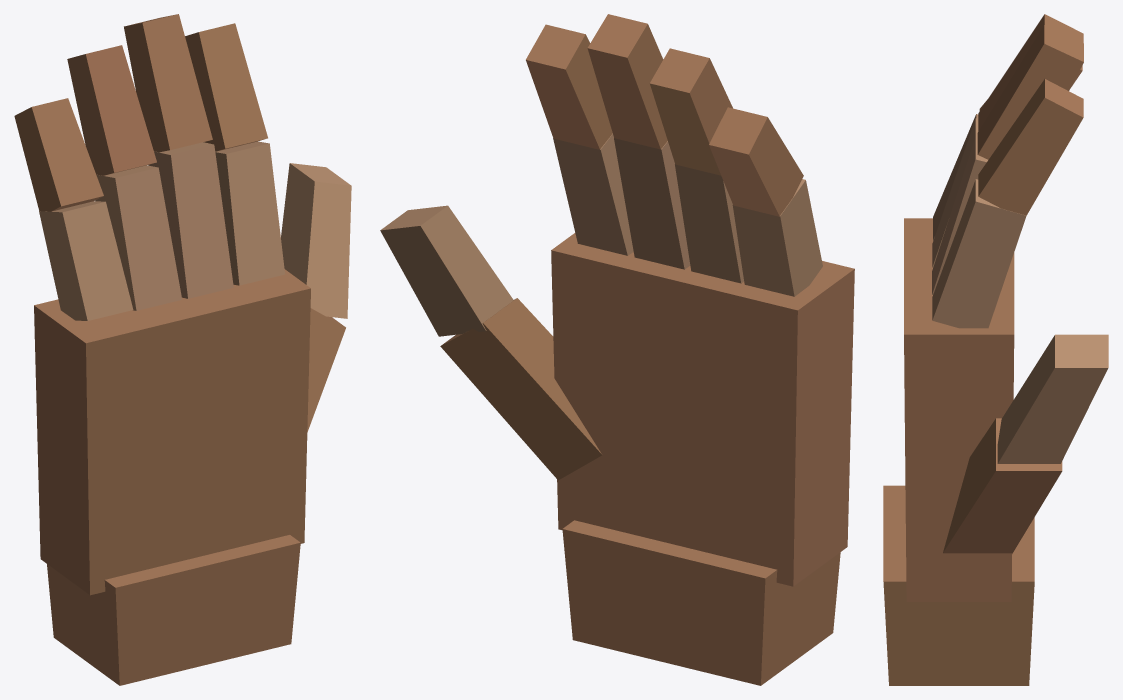
Rendered from hand.glb.
The picture shows the model from 3 angles, left to right: view 1: azimuth 30°, elevation 25°; view 2: azimuth 150°, elevation 25°; view 3: azimuth 270°, elevation 25°; orthographic projection. The views are drawn at different scales.
Parts seen in each view (by area): view 1: fp_hand_solid; view 2: fp_hand_solid; view 3: fp_hand_solid.
Boxes of the visible parts, bbox=[...] form: fp_hand_solid: bbox=[14, 14, 351, 685]; fp_hand_solid: bbox=[380, 14, 854, 685]; fp_hand_solid: bbox=[883, 14, 1108, 685].
Size of the model in its own units: 0.1178 by 0.1959 by 0.0642.
